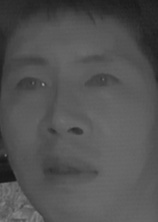eye: (84, 69, 123, 94), (13, 74, 49, 95)
mouth: (36, 152, 103, 189)
